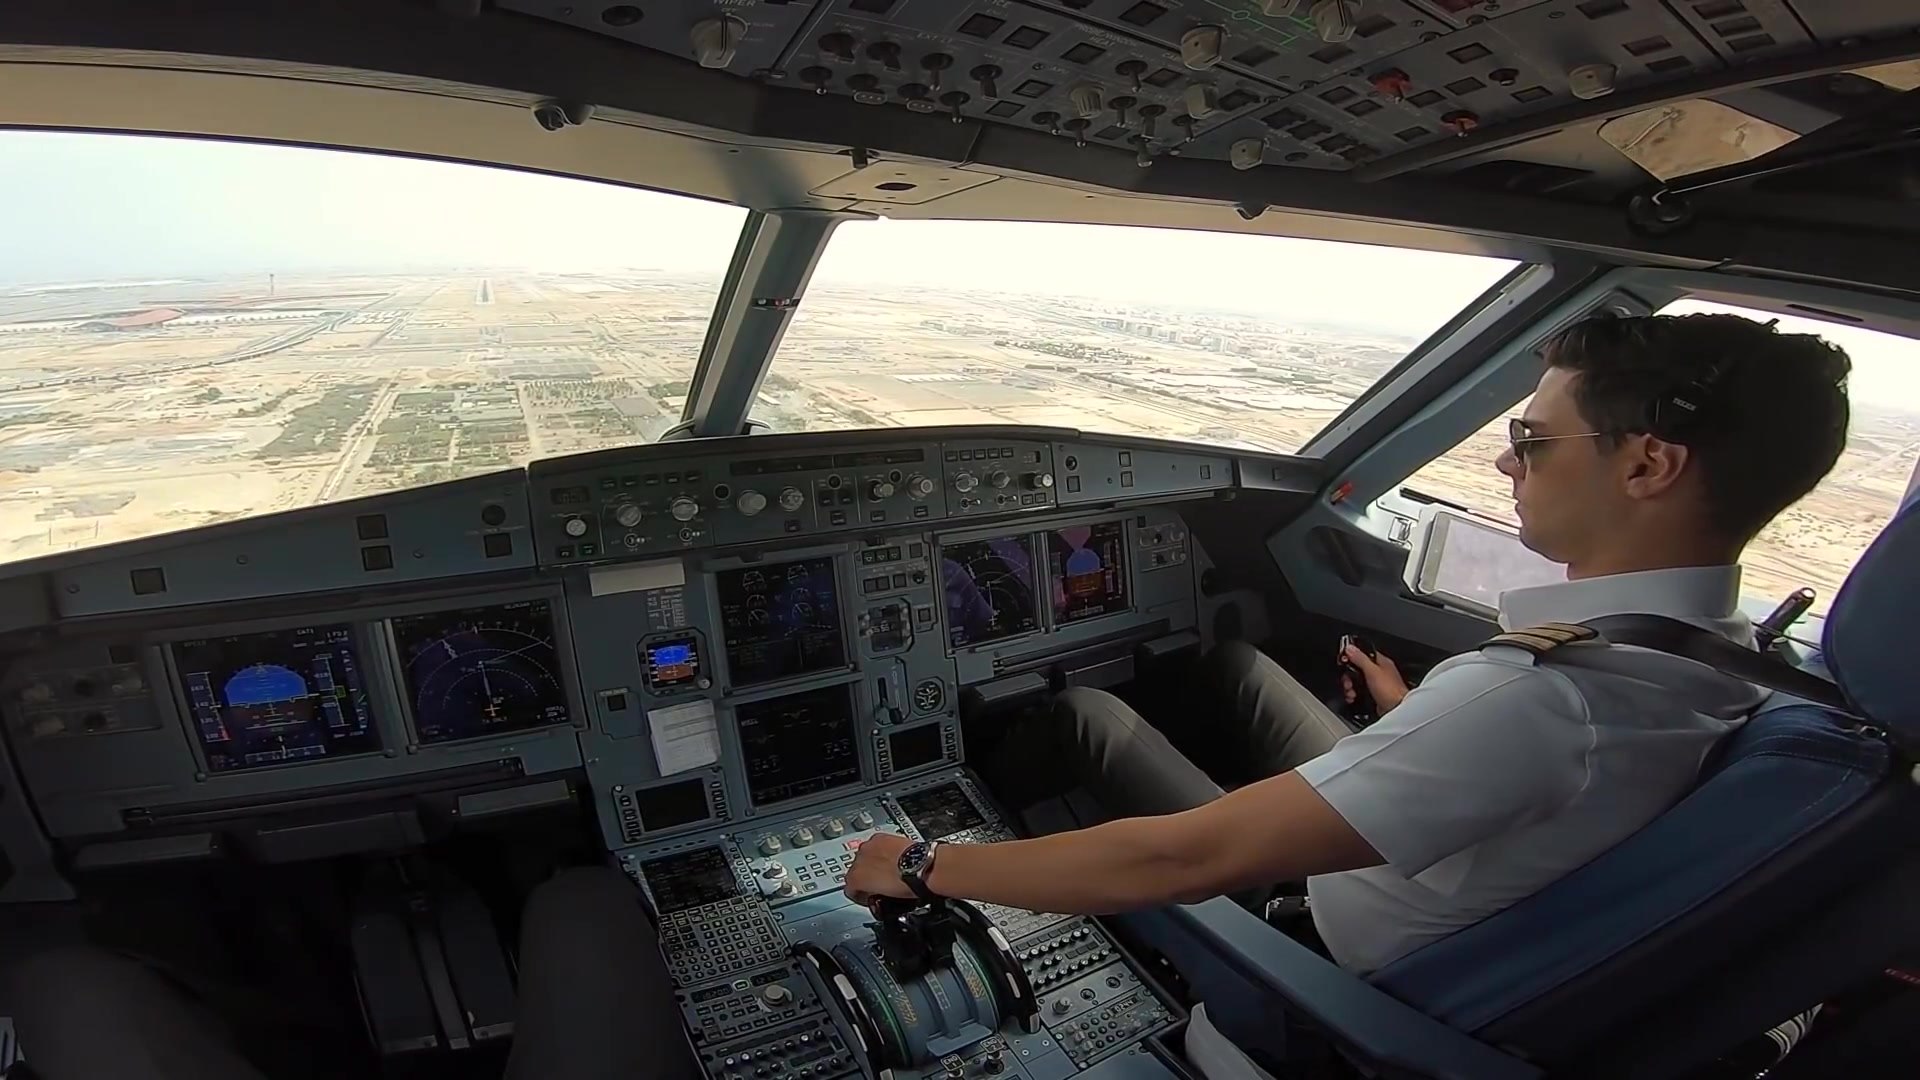runway: (472, 277, 497, 306)
